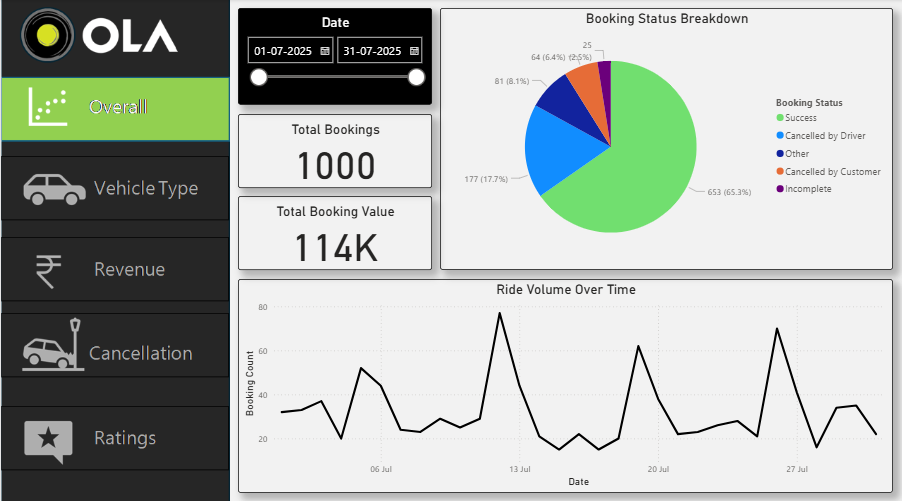

This screenshot's page, from the dashboard's own definition file:
{"tool":"powerbi","page":{"name":"Overall","canvas":[1280,720],"ordinal":0},"visuals":[{"type":"actionButton","box":[0,222.5,323.1,90.7],"z":0},{"type":"actionButton","box":[0,337.3,323.1,90.7],"z":1000},{"type":"actionButton","box":[0,445,323.1,90.7],"z":2000},{"type":"actionButton","box":[0,576.9,323.1,90.7],"z":3000},{"type":"lineChart","title":"Ride Volume Over Time","fields":{"Y":["CountNonNull(Sheet1.Booking ID)"],"Category":["Sheet1.Date"]},"box":[335.9,396.9,928.3,303.3],"z":4000},{"type":"pieChart","title":"Booking Status Breakdown","fields":{"Category":["Sheet1.Booking Status"],"Y":["CountNonNull(Sheet1.Booking Status)"]},"box":[622.2,12.8,642,371.3],"z":5000},{"type":"slicer","title":"Date","fields":{"Values":["Sheet1.Date"]},"box":[335.9,12.8,275,137.5],"z":6000},{"type":"card","title":"Total Bookings","fields":{"Values":["CountNonNull(Sheet1.Booking ID)"]},"box":[335.9,163,275,104.9],"z":7000},{"type":"card","title":"Total Booking Value","fields":{"Values":["Sum(Sheet1.Fare (INR))"]},"box":[335.9,279.2,275,104.9],"z":8000}]}

Visuals, with their boxes in screenshot pixels (x1, y1, x2, y2), scaled from the page's 1280x720 canvas onto the 902x501 screenshot:
actionButton: box(0, 155, 228, 218)
actionButton: box(0, 235, 228, 298)
actionButton: box(0, 310, 228, 373)
actionButton: box(0, 401, 228, 465)
"Ride Volume Over Time" lineChart: box(237, 276, 891, 487)
"Booking Status Breakdown" pieChart: box(438, 9, 891, 267)
"Date" slicer: box(237, 9, 430, 105)
"Total Bookings" card: box(237, 113, 430, 186)
"Total Booking Value" card: box(237, 194, 430, 267)
